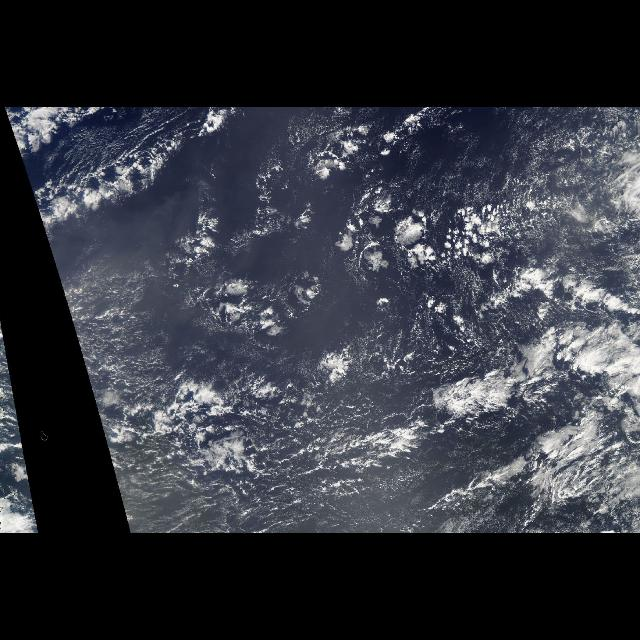Fish: (428, 262, 640, 438)
Gravel: (2, 107, 504, 341), (127, 362, 453, 530)
Sugar: (115, 350, 382, 526), (457, 112, 639, 306)
